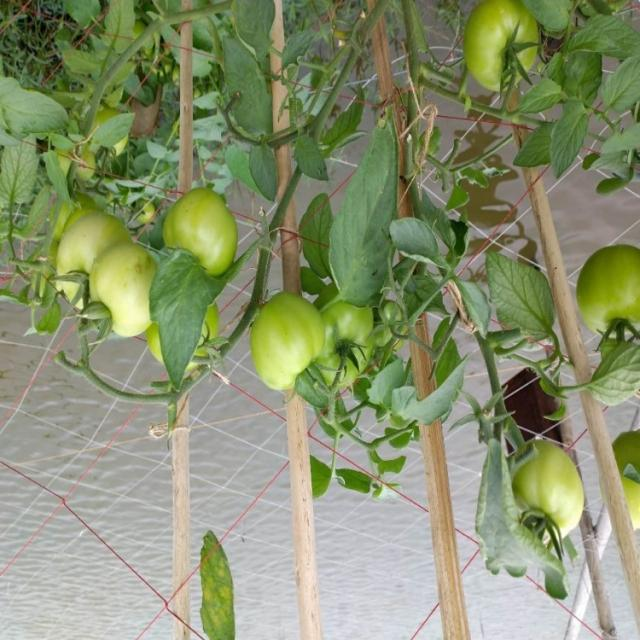tomato: (505, 432, 600, 547), (149, 176, 242, 288), (450, 1, 550, 99), (242, 292, 334, 398), (86, 237, 162, 341), (52, 203, 127, 301), (571, 237, 640, 341), (317, 289, 373, 391), (608, 425, 640, 518)
